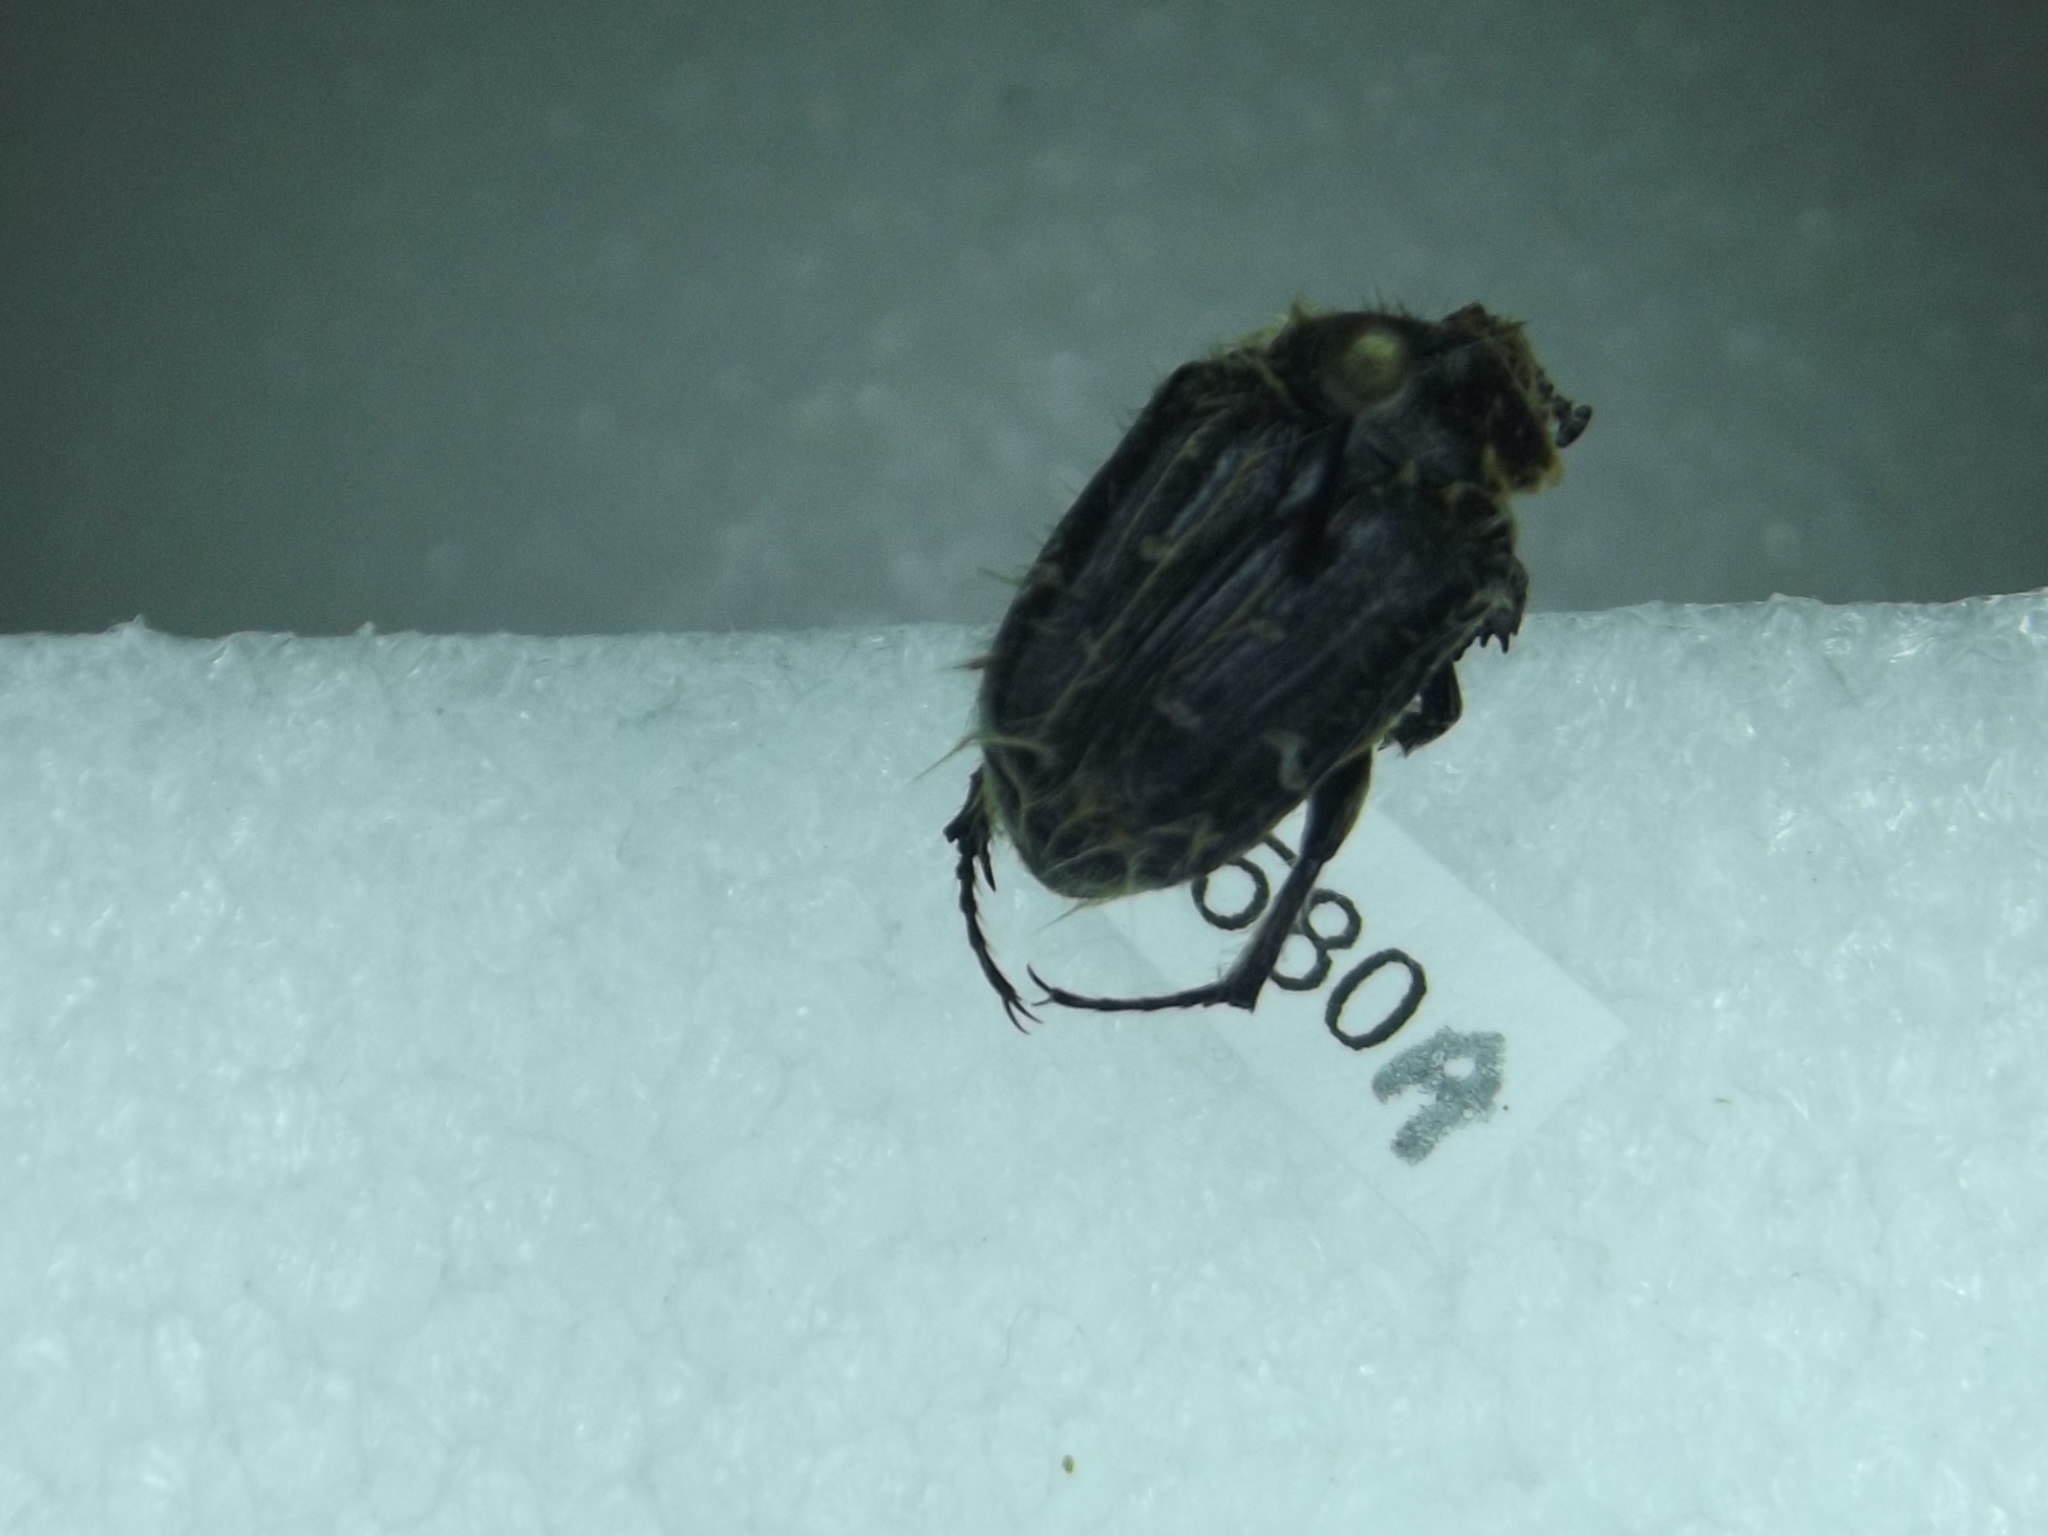Tropinota_hirta: (913, 260, 1609, 1058)
